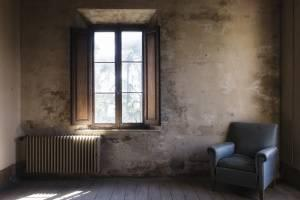window: (76, 8, 159, 129)
